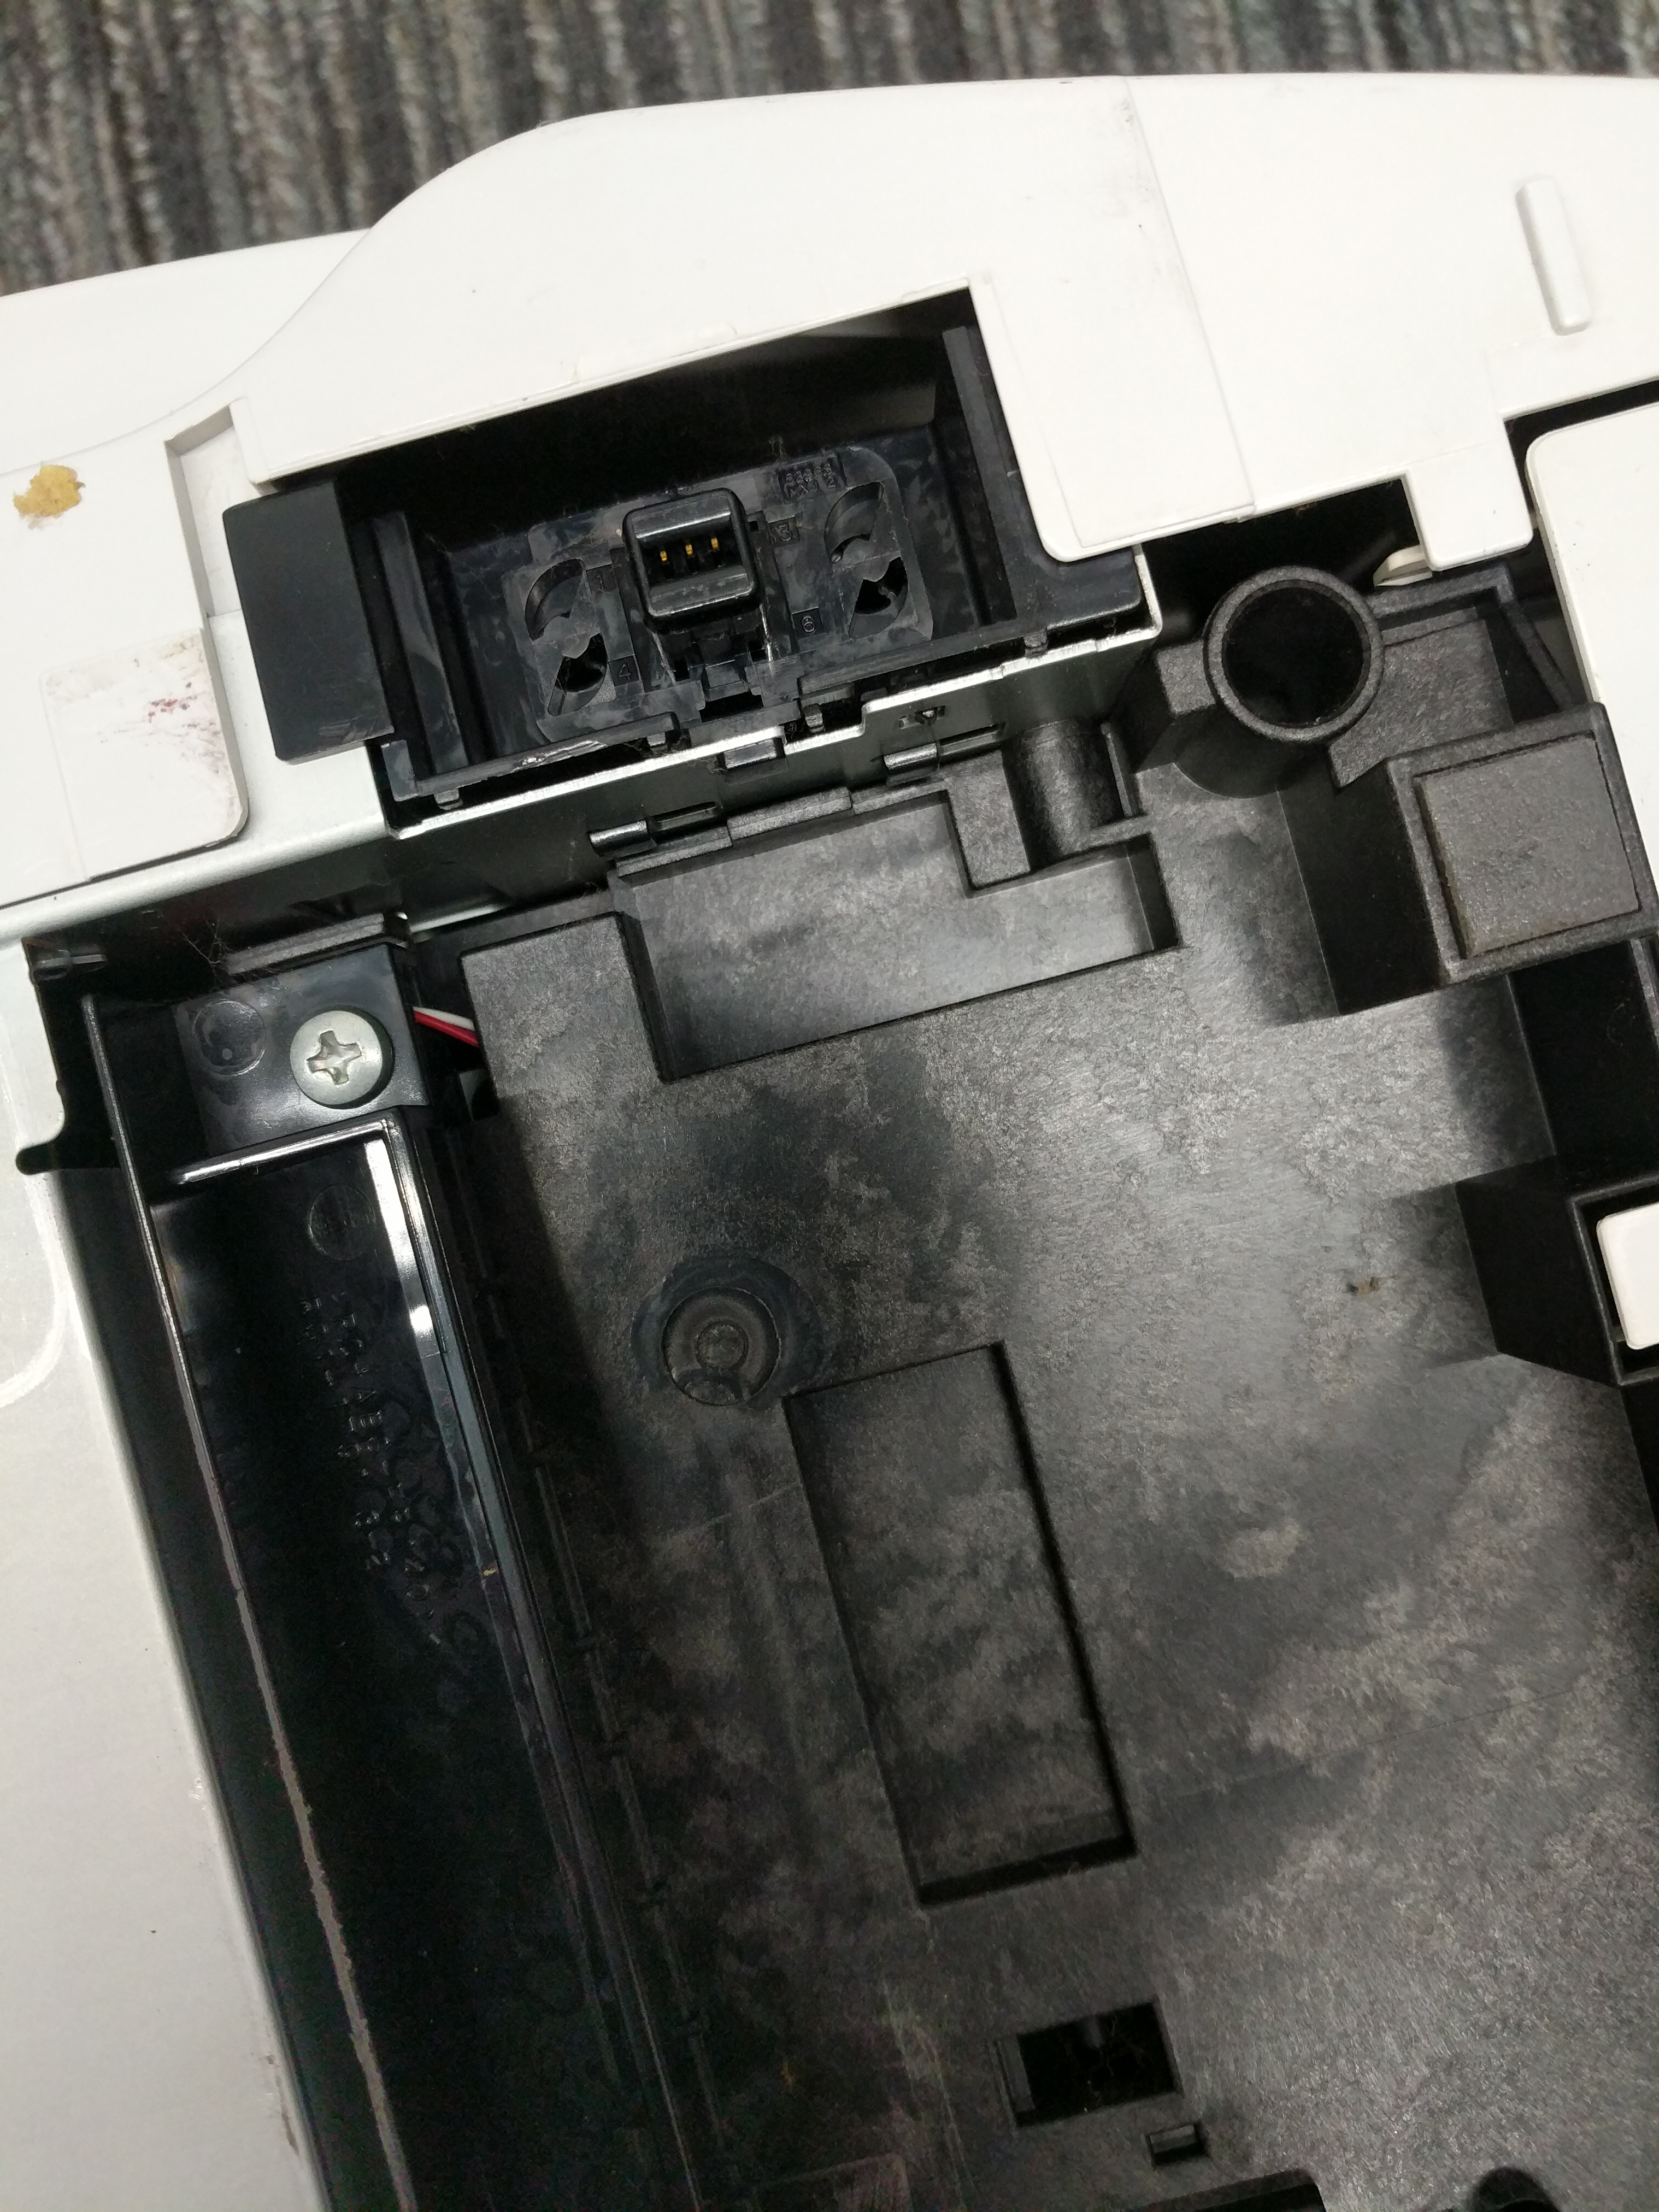cross_recessed_screw: (263, 989, 403, 1120)
